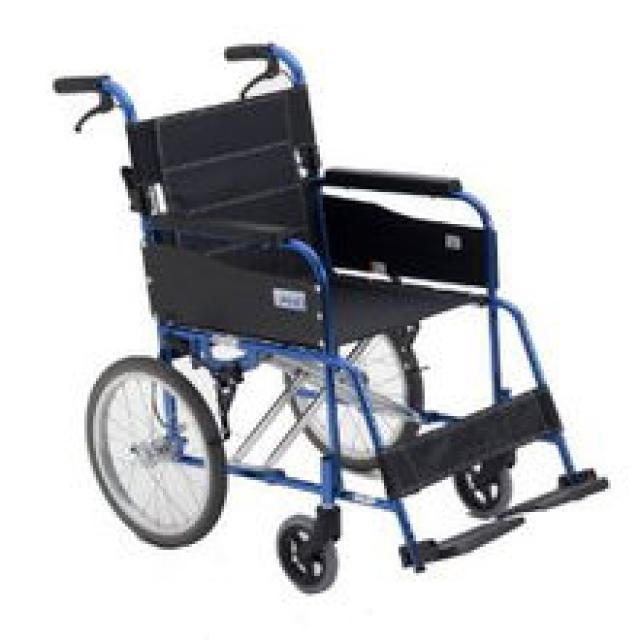wheelchair: (29, 35, 623, 620)
